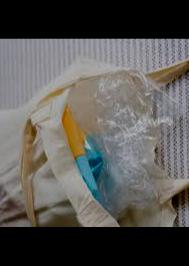Plastic: (64, 75, 185, 215)
